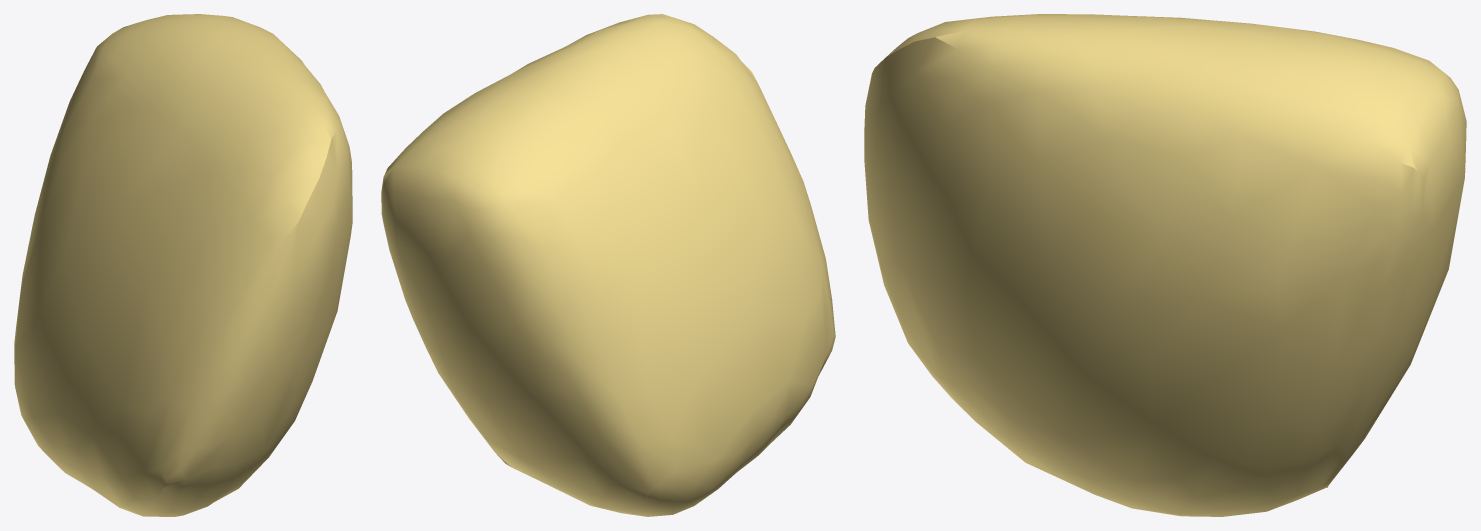
The model's file is fma62314-r_mm2960m.glb.
The picture shows the model from 3 angles, left to right: view 1: azimuth 30°, elevation 25°; view 2: azimuth 150°, elevation 25°; view 3: azimuth 270°, elevation 25°; orthographic projection. The views are drawn at different scales.
Visible parts, largest first — view 1: FMA62314-R_MM2960M; view 2: FMA62314-R_MM2960M; view 3: FMA62314-R_MM2960M.
Boxes of the visible parts, left/top/right/bottom form: FMA62314-R_MM2960M: left=14, top=14, right=352, bottom=516; FMA62314-R_MM2960M: left=381, top=14, right=835, bottom=516; FMA62314-R_MM2960M: left=864, top=14, right=1466, bottom=516.
Bounding box in the file's own units: 0.00133 × 0.00176 × 0.00182.
